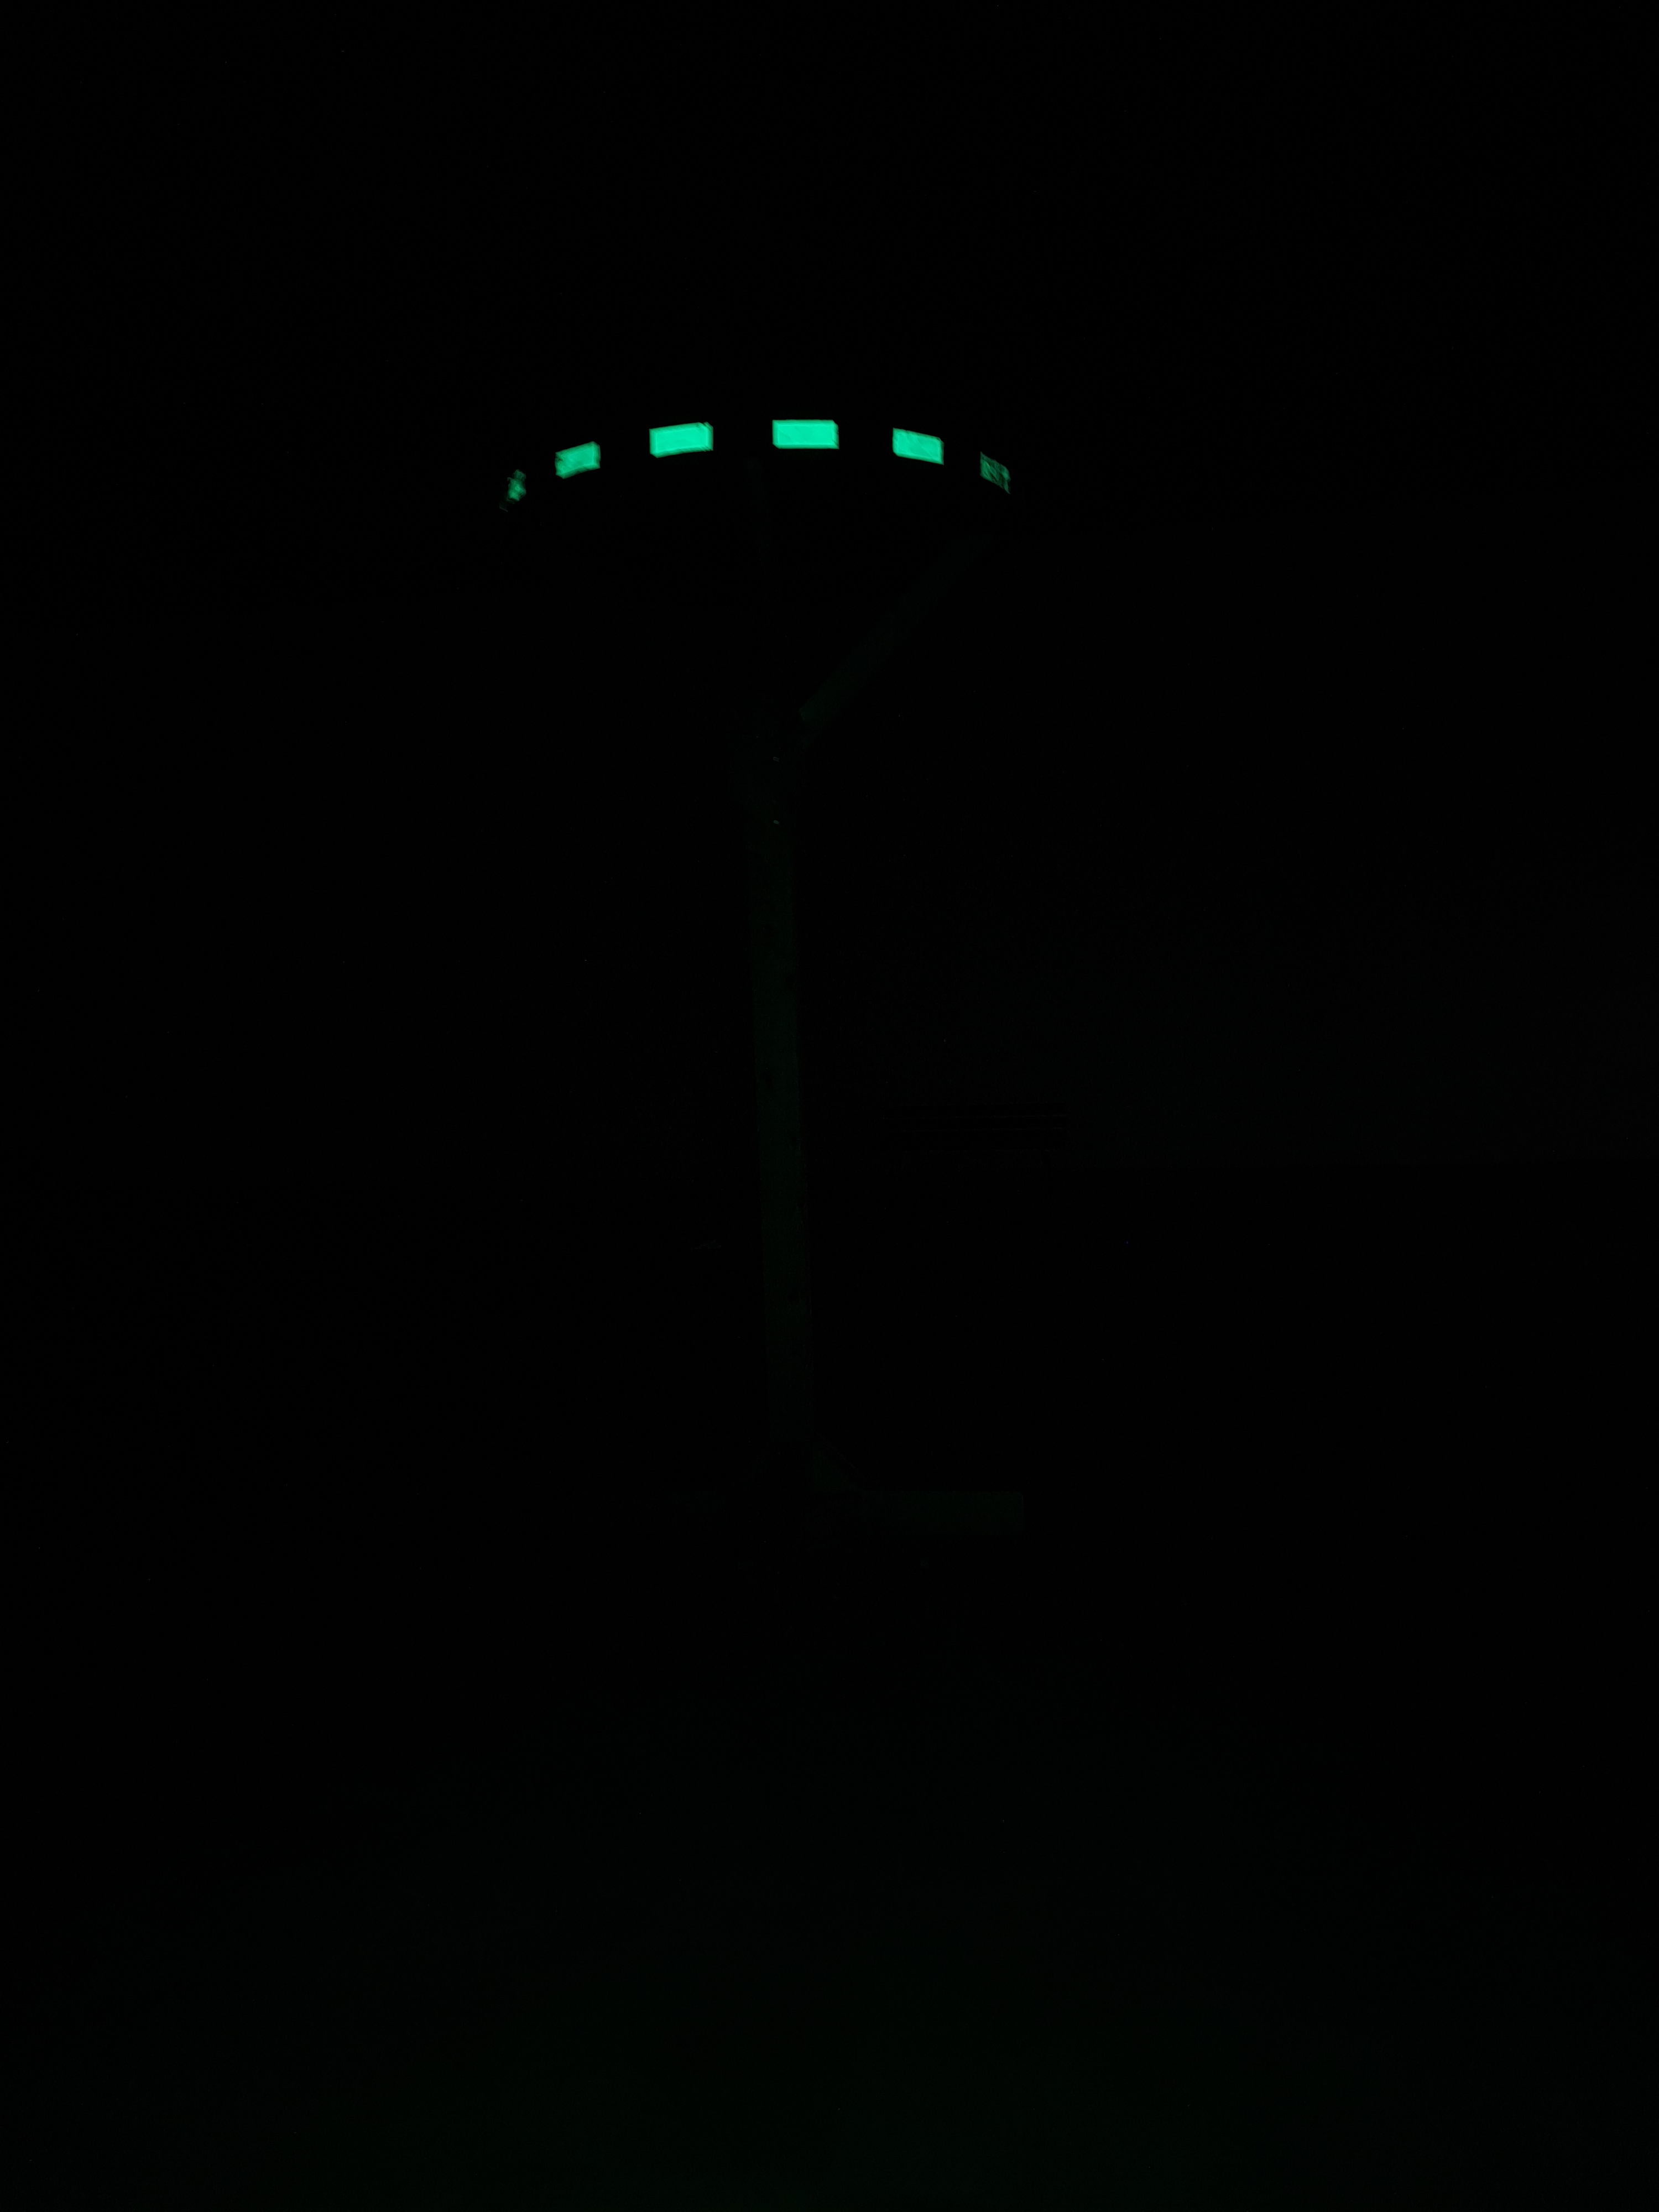hoop: (469, 408, 1021, 533)
